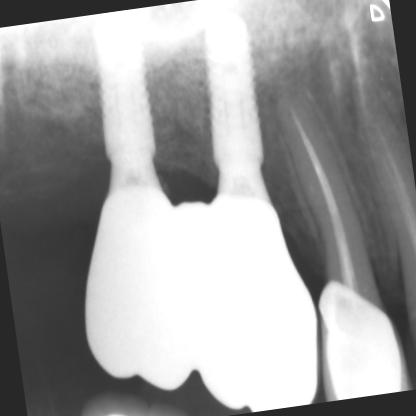ITI: (188, 3, 271, 178), (78, 7, 166, 167)
